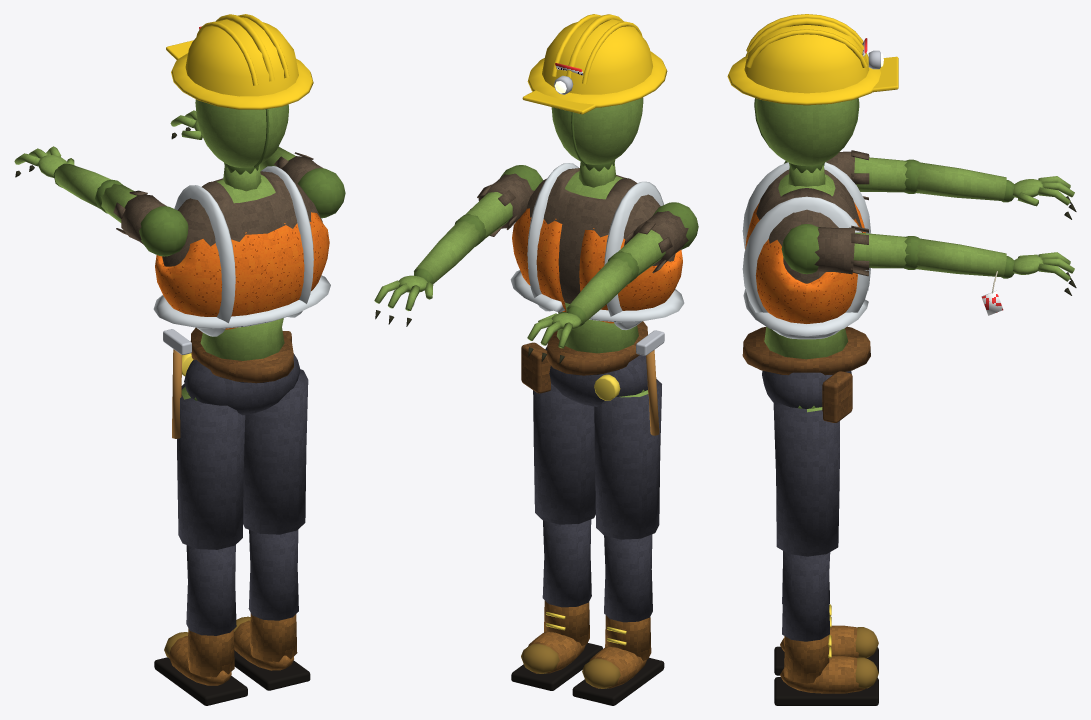
The model's file is z_hardhat.glb.
3 renders of one model, left to right at view 1: azimuth 30°, elevation 25°; view 2: azimuth 150°, elevation 25°; view 3: azimuth 270°, elevation 25°, orthographic. The views are drawn at different scales.
Visible parts, largest first — view 1: part_body, part_hat, part_legL, part_kneeL, part_kneeR, part_legR, part_head, part_armL, part_arm; view 2: part_body, part_hat, part_legL, part_kneeL, part_kneeR, part_legR, part_armL, part_arm, part_head; view 3: part_body, part_hat, part_kneeR, part_legR, part_arm, part_armL, part_head, part_kneeL.
Boxes of the visible parts, x1,y1,x2,y2 form: part_body: [139, 165, 345, 438]; part_hat: [166, 14, 313, 109]; part_legL: [177, 383, 245, 549]; part_kneeL: [154, 545, 247, 705]; part_kneeR: [234, 530, 310, 690]; part_legR: [243, 369, 308, 534]; part_head: [195, 99, 288, 174]; part_armL: [14, 146, 166, 244]; part_arm: [170, 110, 322, 183]; part_body: [500, 162, 698, 435]; part_hat: [522, 14, 667, 114]; part_legL: [594, 379, 661, 539]; part_kneeL: [572, 534, 664, 705]; part_kneeR: [511, 519, 602, 690]; part_legR: [533, 383, 595, 524]; part_armL: [527, 211, 688, 363]; part_arm: [374, 173, 534, 326]; part_head: [551, 97, 643, 171]; part_body: [742, 161, 870, 422]; part_hat: [727, 14, 898, 105]; part_kneeR: [774, 551, 878, 705]; part_legR: [773, 400, 839, 556]; part_arm: [814, 225, 1076, 315]; part_armL: [826, 150, 1076, 219]; part_head: [754, 98, 859, 172]; part_kneeL: [774, 569, 878, 675].
Bounding box in the file's own units: 0.64 × 2.03 × 0.9689.
20 materials, 10 textured.
